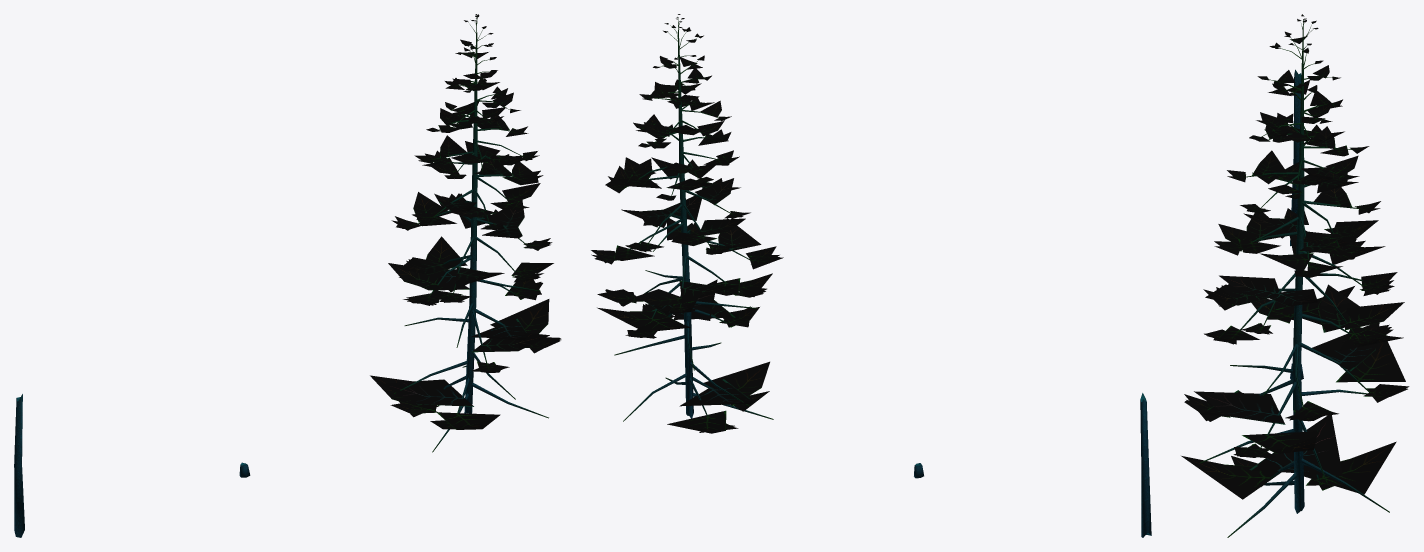
The model's file is Douglas_Fir_Props.glb.
3 views of the same model, side by side, from view 1: azimuth 30°, elevation 25°; view 2: azimuth 150°, elevation 25°; view 3: azimuth 270°, elevation 25° (orthographic). The views are drawn at different scales.
Parts seen in each view (by area): view 1: DouglasFir_Prop_03, DouglasFir_Prop_01; view 2: DouglasFir_Prop_03, DouglasFir_Prop_01; view 3: DouglasFir_Prop_03, DouglasFir_Prop_01.
Part boxes in pixels (<box>): DouglasFir_Prop_03: <box>370,14,561,452</box>; DouglasFir_Prop_01: <box>14,394,24,537</box>; DouglasFir_Prop_03: <box>591,14,783,433</box>; DouglasFir_Prop_01: <box>1140,393,1151,537</box>; DouglasFir_Prop_03: <box>1181,14,1409,537</box>; DouglasFir_Prop_01: <box>1290,69,1301,246</box>.
Size of the model in its own units: 24.05 by 17.3 by 6.97.
3 materials, 3 textured.
